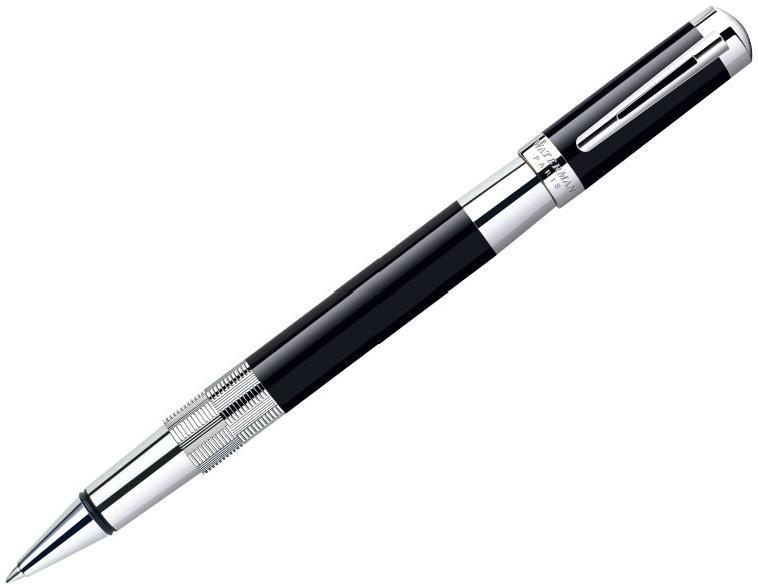pen-pencil: (6, 12, 751, 581)
